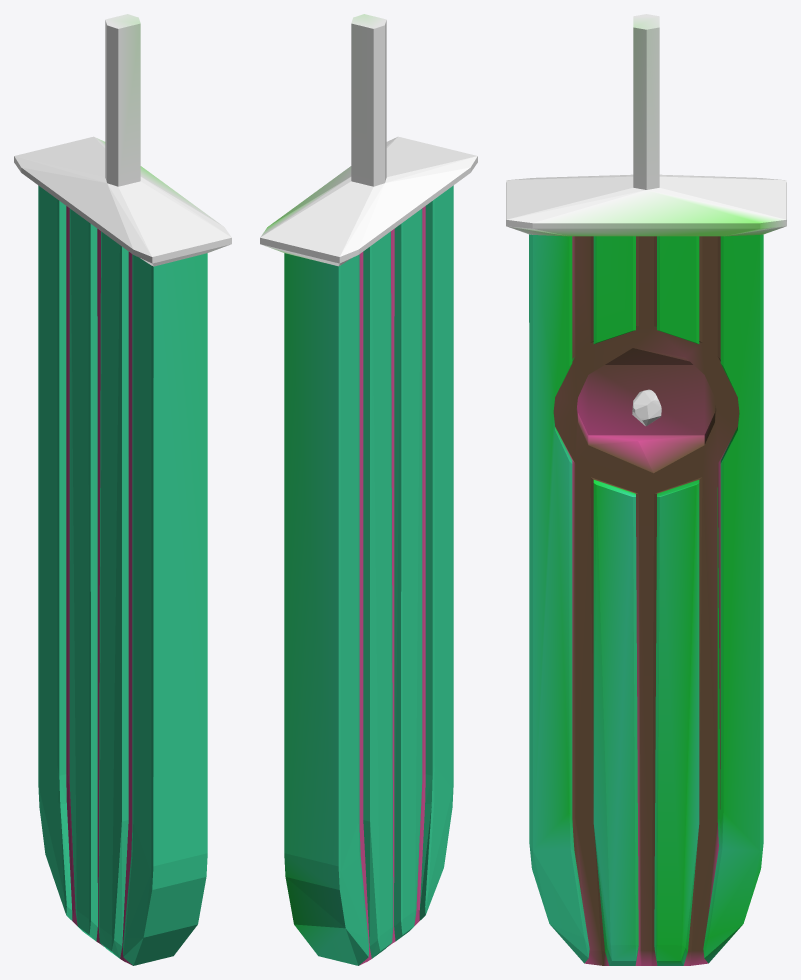
File: ResonantSword.fbx
The picture shows the model from 3 angles, left to right: view 1: azimuth 30°, elevation 25°; view 2: azimuth 150°, elevation 25°; view 3: azimuth 270°, elevation 25°; orthographic projection.
Parts seen in each view (by area): view 1: Cube; view 2: Cube; view 3: Cube, Sphere.
Boxes of the visible parts, x1,y1,x2,y2 form: Cube: (14,14,231,965); Cube: (260,14,477,965); Cube: (506,14,786,965); Sphere: (632,389,661,426).
Bounding box in the file's own units: 23 × 221 × 60.32.
